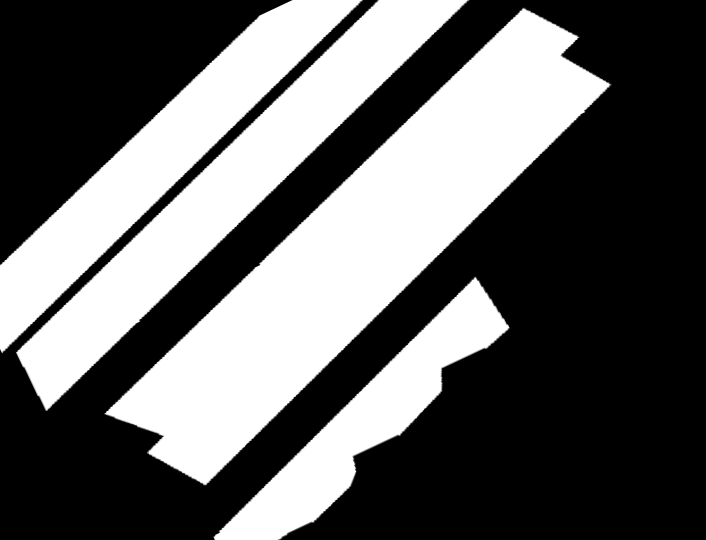parkingspot: (105, 8, 611, 485), (16, 0, 469, 411), (0, 0, 362, 353), (214, 277, 509, 540)
